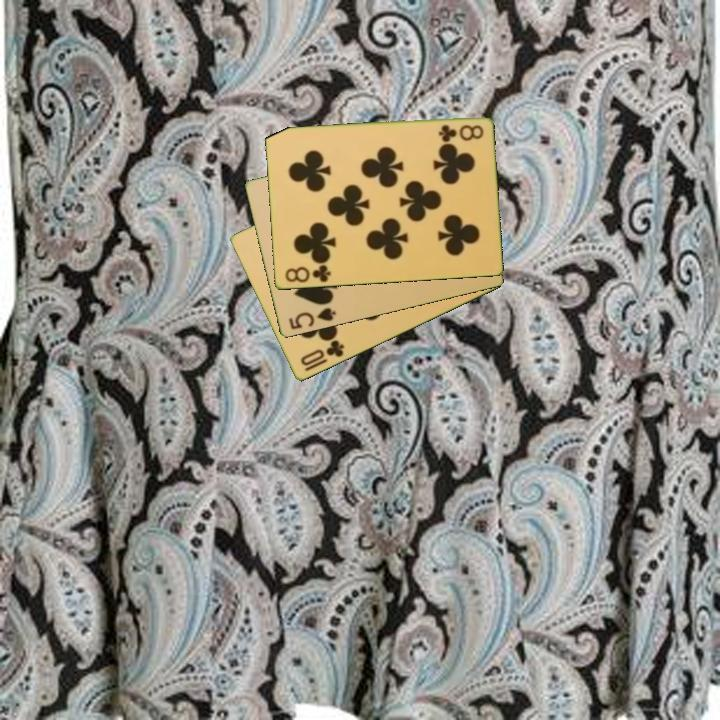10c: (297, 337, 347, 369)
5s: (285, 304, 339, 333)
8c: (281, 262, 334, 286), (435, 122, 486, 144)
